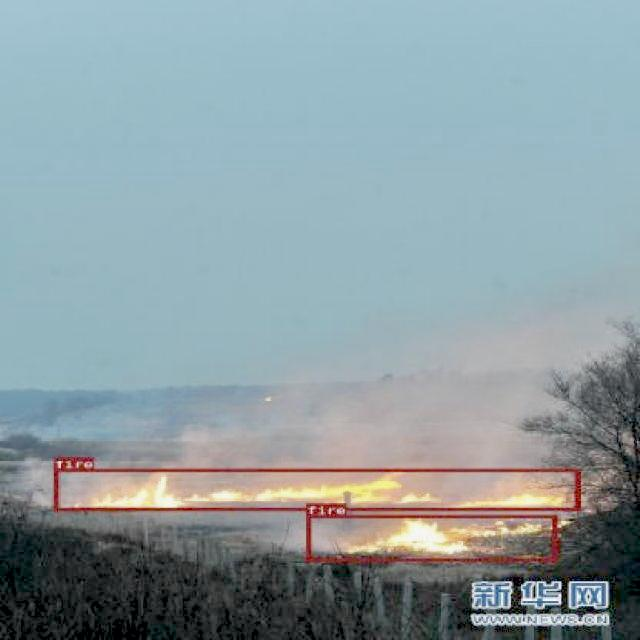fire: (53, 468, 579, 510), (306, 514, 556, 560)
